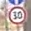limite 30: (7, 5, 27, 25)
